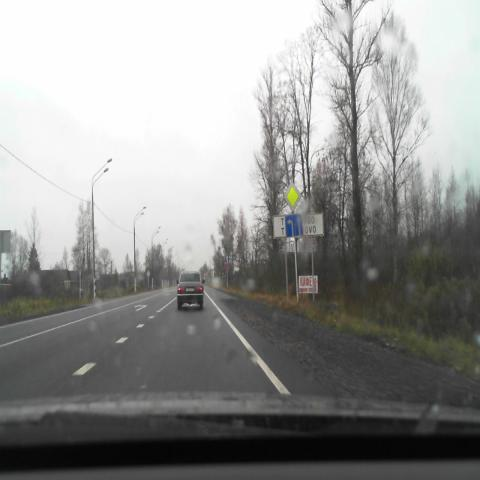5_15_2_2: (285, 214, 303, 237)
